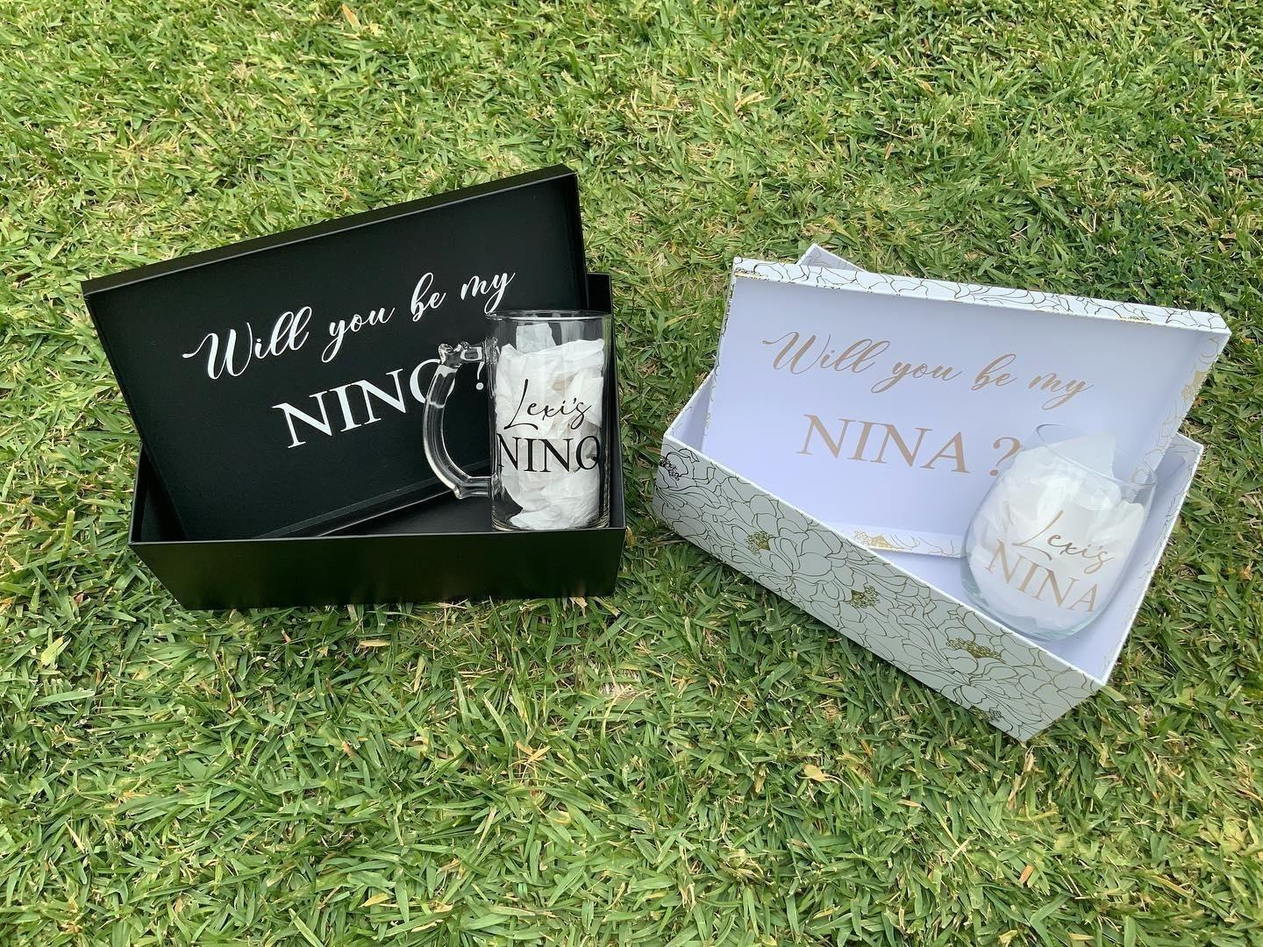glass-mug: (428, 303, 626, 529)
glass-normal: (919, 404, 1161, 658)
